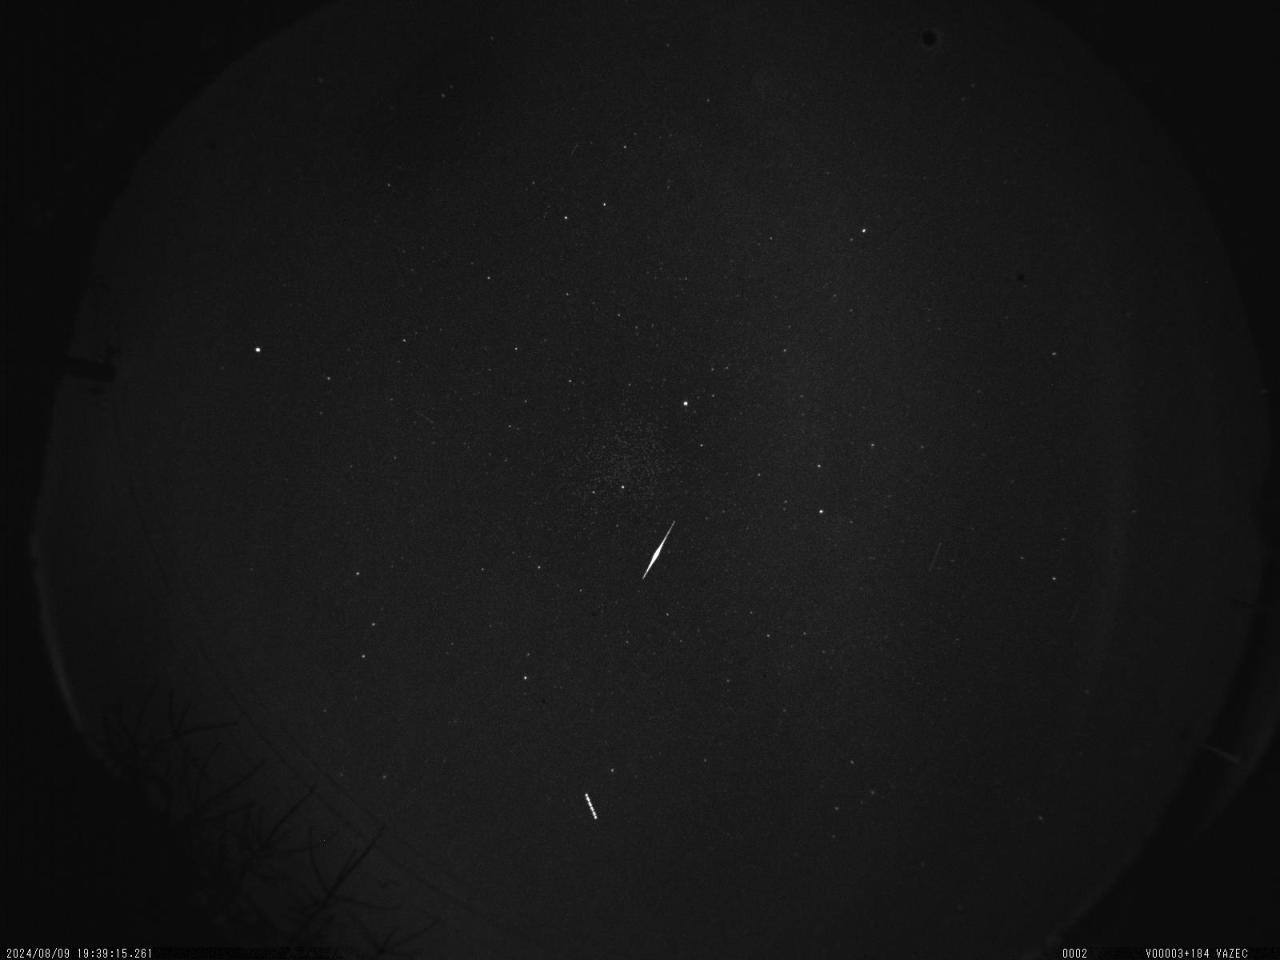Meteor: (640, 518, 677, 582)
